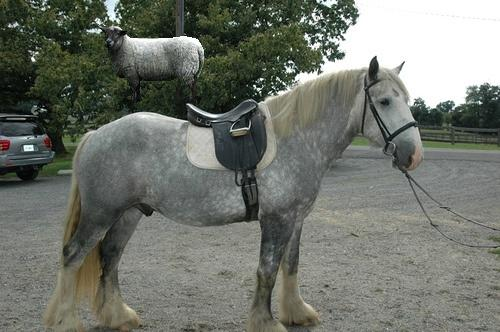tampered: (99, 26, 204, 103)
